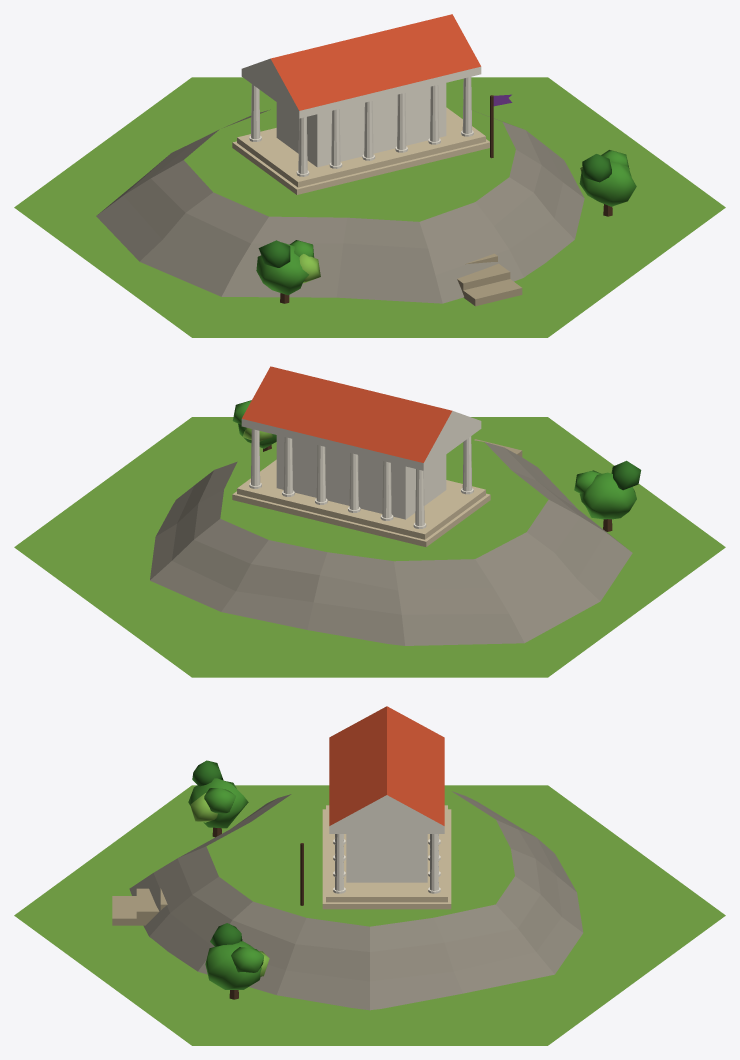
Rendered from district_acropolis_1.fbx.
3 views of the same model, one above another, from view 1: azimuth 30°, elevation 25°; view 2: azimuth 150°, elevation 25°; view 3: azimuth 270°, elevation 25° (orthographic).
Visible parts, largest first — view 1: district_acropolis_1; view 2: district_acropolis_1; view 3: district_acropolis_1.
Part boxes in pixels (box(x1,y1,x2,y2)): district_acropolis_1: box(14, 14, 725, 337); district_acropolis_1: box(14, 366, 725, 677); district_acropolis_1: box(14, 706, 725, 1045).
Bounding box in the file's own units: 182 × 54.13 × 210.
